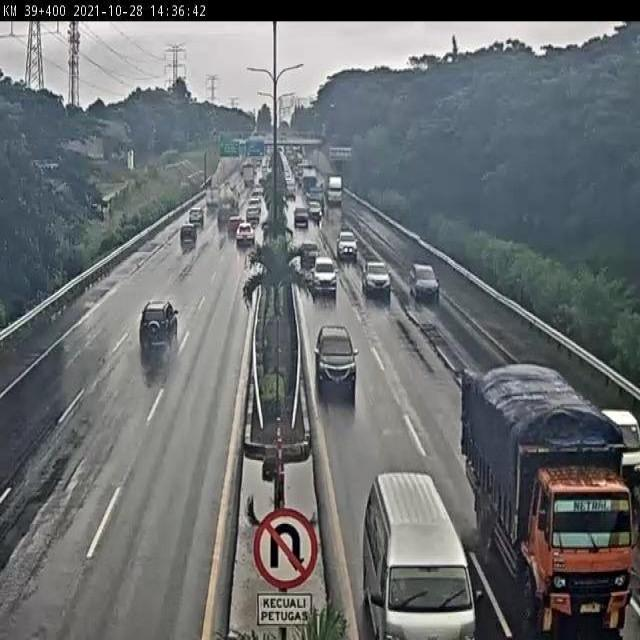car: (313, 317, 356, 400), (603, 409, 640, 480), (141, 291, 180, 352), (411, 263, 452, 301), (351, 259, 396, 293), (314, 262, 341, 298), (348, 219, 369, 260), (299, 241, 321, 267), (242, 216, 262, 243), (178, 222, 198, 242)
small bus: (452, 379, 629, 616), (382, 473, 473, 627)
